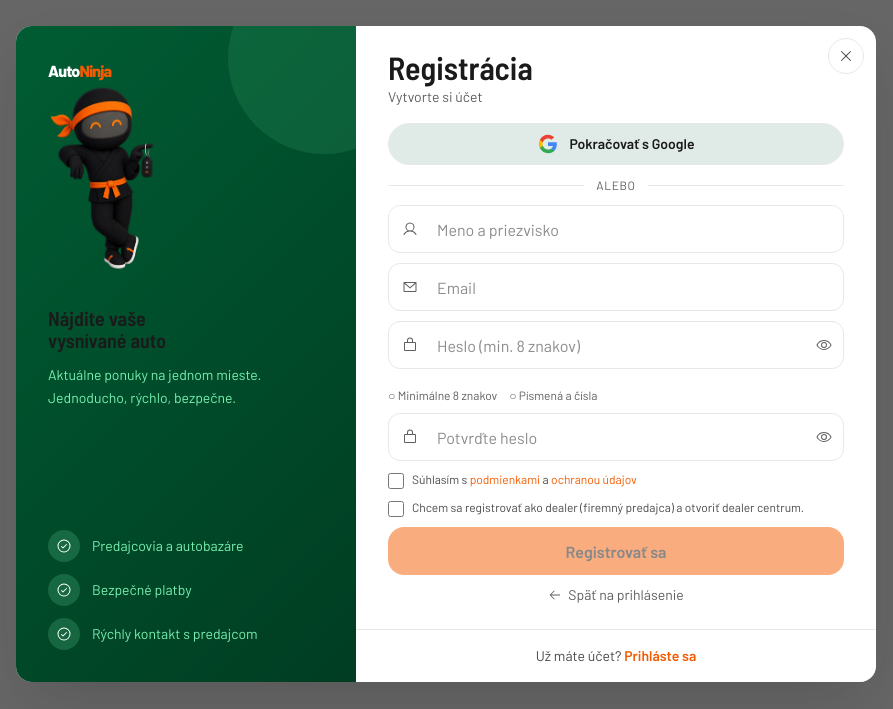
AuthModal register password strength › shows medium strength when password has letters, numbers, and length
This screenshot has width=893, height=709.
Type "abc12345" into the password field with id "auth-register-password".
click(616, 345); type("abc12345")  # box [388,321,844,369]
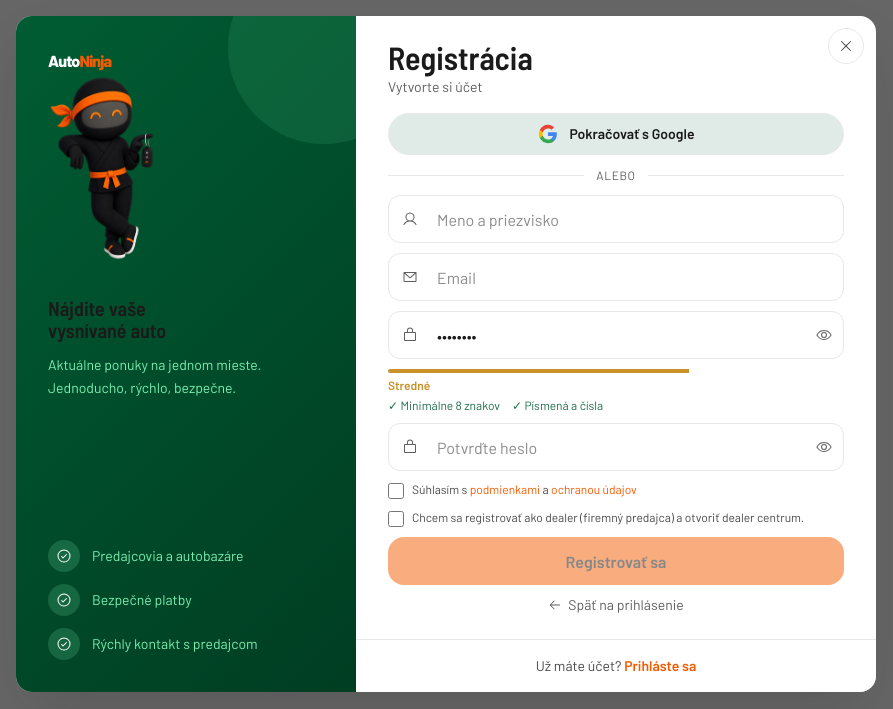
Expected: the text with test id "register-password-strength-label" reads "Stredné", [388,378,430,392]
Expected: the element with test id "register-password-strength-bar" is shown, [388,369,689,373]
